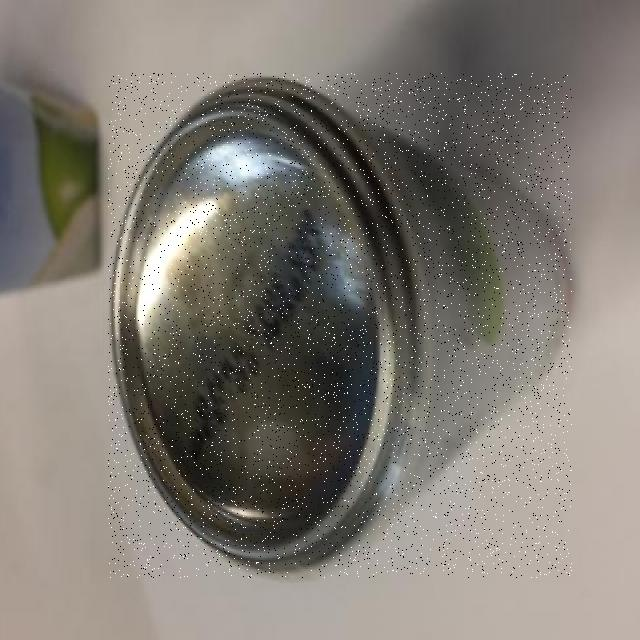metal: (108, 73, 572, 578)
